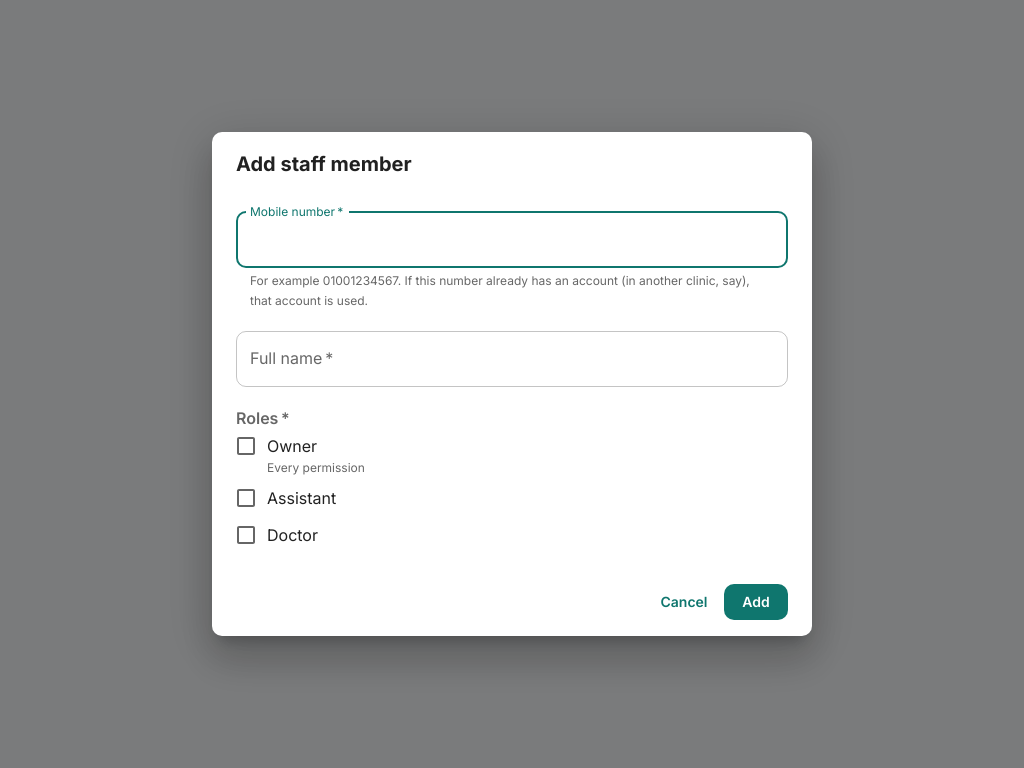
it: add a staff member @area:admin › submitted empty, in English @ADM-245
Step 1. Click the button "Add" → click(756, 602), box [724,584,788,620]
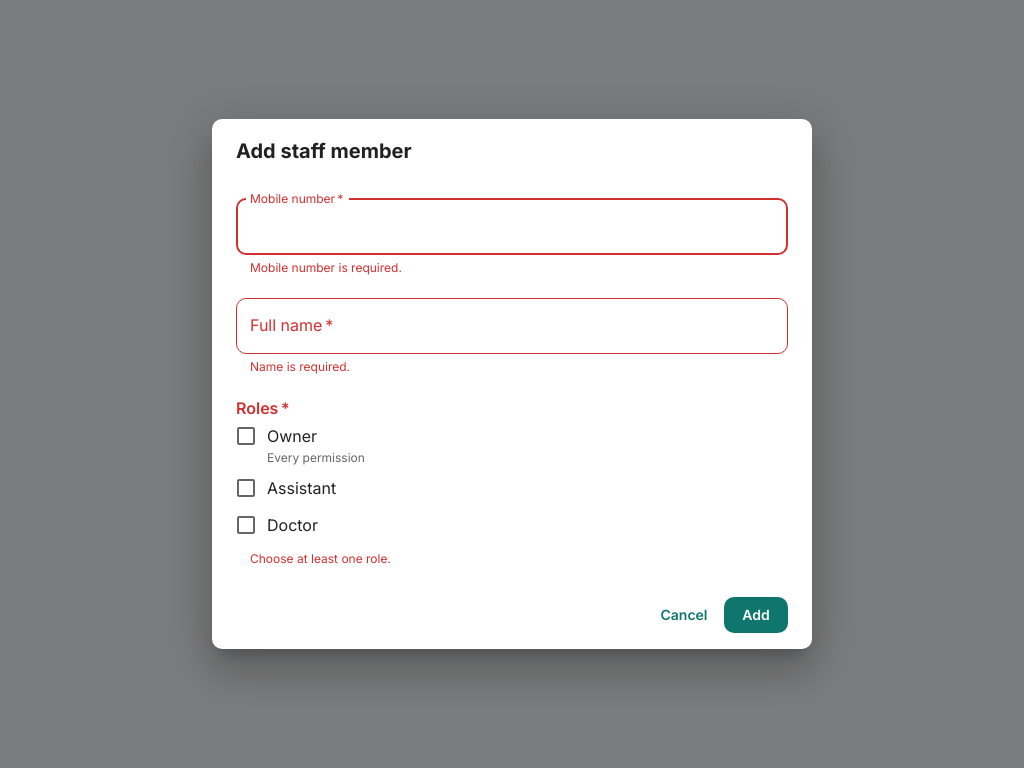
Expected: the checkbox labelled "Owner Every permission" is shown, [234,424,365,465]
Expected: the text "Choose at least one role." is shown, [250,551,391,566]
